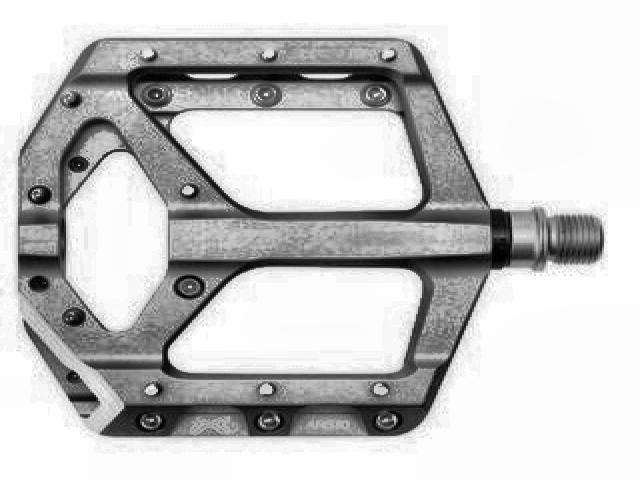pedal: (9, 32, 610, 442)
